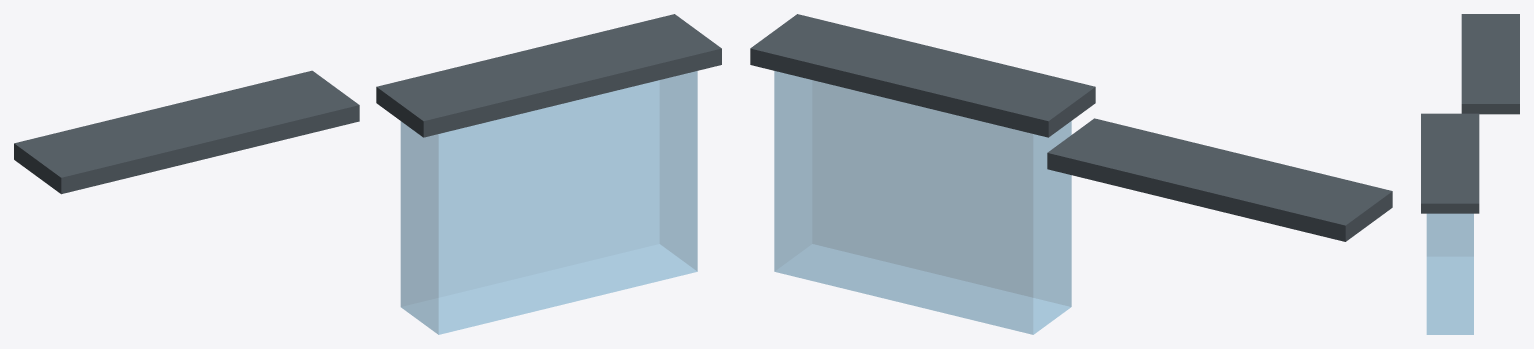
File: cover.riot_barrier_pair.glb
3 views of the same model, side by side, from view 1: azimuth 30°, elevation 25°; view 2: azimuth 150°, elevation 25°; view 3: azimuth 270°, elevation 25° (orthographic). The views are drawn at different scales.
Parts seen in each view (by area): view 1: right_barrier, left_frame, right_frame; view 2: right_barrier, left_frame, right_frame; view 3: right_frame, left_frame, right_barrier.
Part boxes in pixels (x1,y1,x2,y2): right_barrier: (400,71,697,334); left_frame: (14,70,359,194); right_frame: (376,14,721,137); right_barrier: (774,71,1071,334); left_frame: (1047,118,1392,241); right_frame: (750,14,1095,137); right_frame: (1421,113,1479,213); left_frame: (1461,14,1519,114); right_barrier: (1426,213,1473,334).
Size of what is drawn, in the model's own units: 4 by 1.35 by 0.88.
